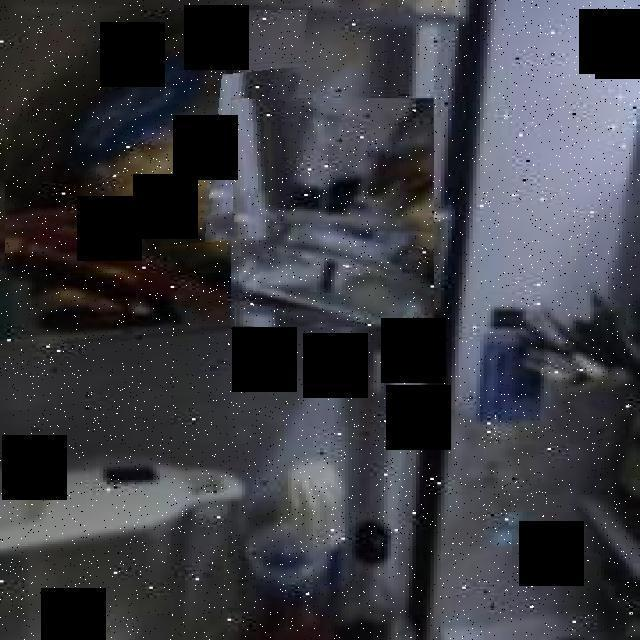grated_cheese: (5, 10, 311, 266), (231, 98, 434, 327)
